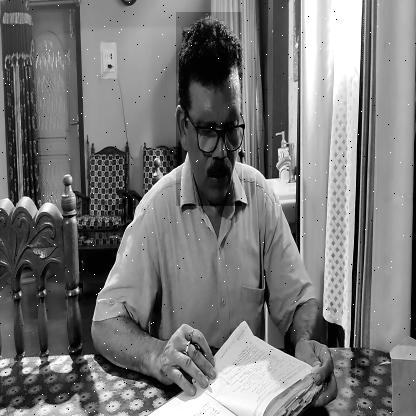Normal: (176, 12, 242, 206)
